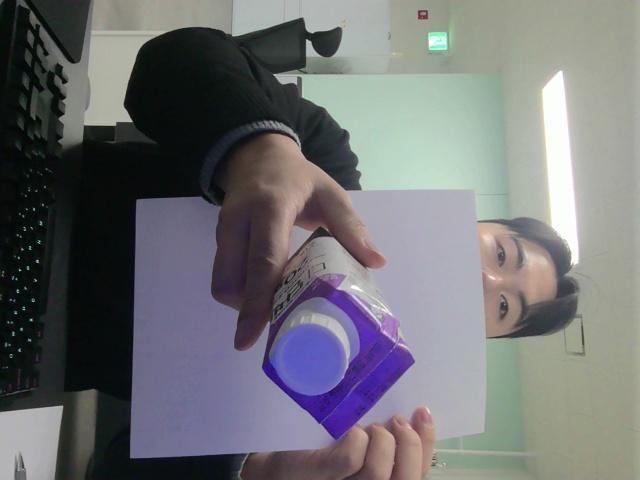milk: (263, 228, 413, 437)
